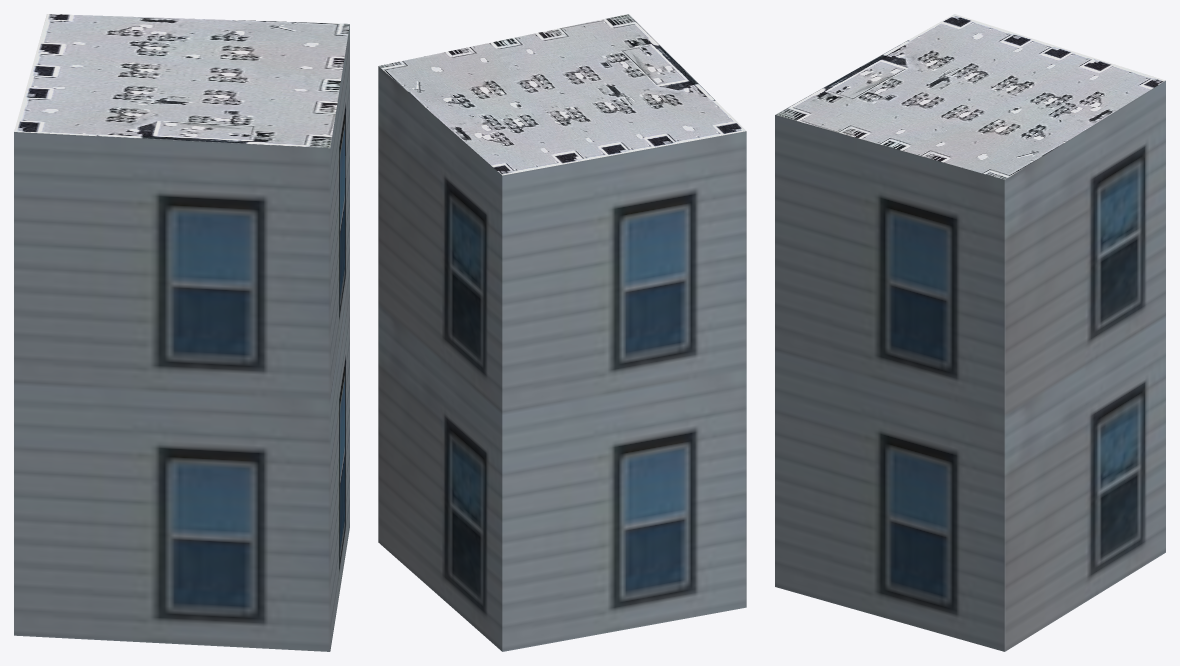
File: ResTex__3317.fbx
3 views of the same model, side by side, from view 1: azimuth 30°, elevation 25°; view 2: azimuth 150°, elevation 25°; view 3: azimuth 270°, elevation 25° (orthographic). The views are drawn at different scales.
Visible parts, largest first — view 1: CityEngineMaterial_18_m, CityEngineMaterial_m; view 2: CityEngineMaterial_18_m, CityEngineMaterial_m; view 3: CityEngineMaterial_18_m, CityEngineMaterial_m.
Boxes of the visible parts, x1,y1,x2,y2 form: CityEngineMaterial_18_m: (14,25,349,651); CityEngineMaterial_m: (14,14,349,148); CityEngineMaterial_18_m: (378,66,746,651); CityEngineMaterial_m: (379,14,746,175); CityEngineMaterial_18_m: (775,80,1165,651); CityEngineMaterial_m: (775,14,1165,179).
Size of the model in its own units: 4.52 by 6 by 4.5.
Materials: 2 (2 with a texture image).
